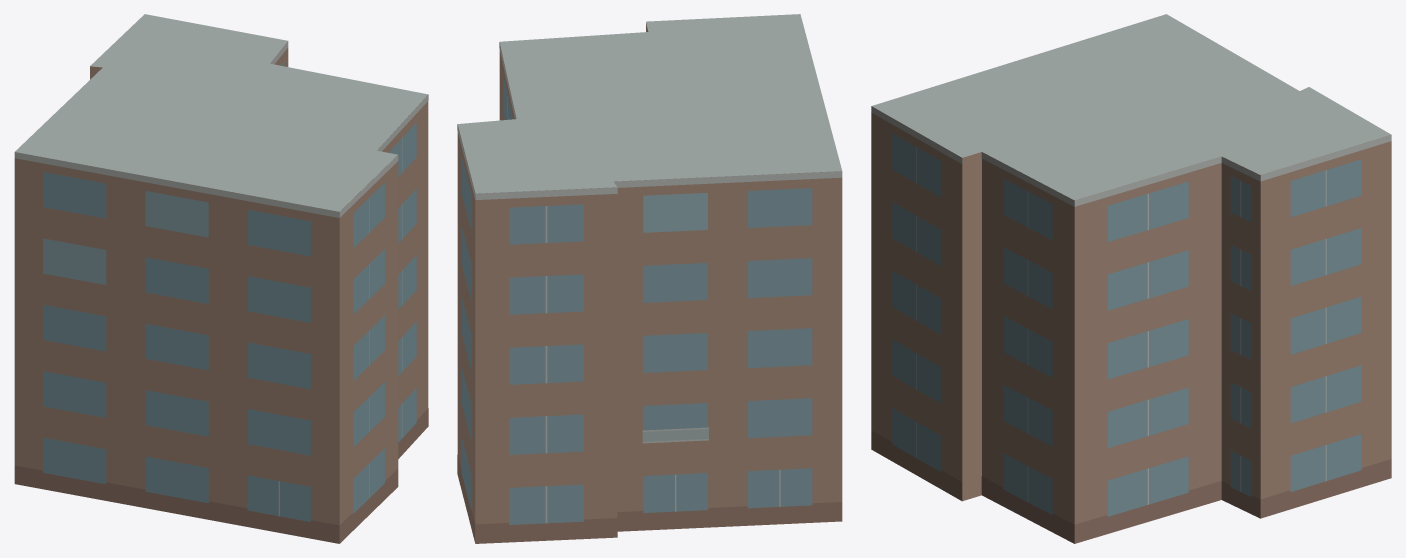
File: survey-upis-32605857.glb
3 views of the same model, side by side, from view 1: azimuth 30°, elevation 25°; view 2: azimuth 150°, elevation 25°; view 3: azimuth 270°, elevation 25° (orthographic). The views are drawn at different scales.
Parts seen in each view (by area): view 1: survey-upis-32605857.tmp; view 2: survey-upis-32605857.tmp; view 3: survey-upis-32605857.tmp.
Part boxes in pixels (x1=…): survey-upis-32605857.tmp: x1=14, y1=14, x2=428, y2=543; survey-upis-32605857.tmp: x1=457, y1=14, x2=842, y2=543; survey-upis-32605857.tmp: x1=871, y1=14, x2=1391, y2=543.
Size of the model in its own units: 15.14 by 13 by 17.85.
